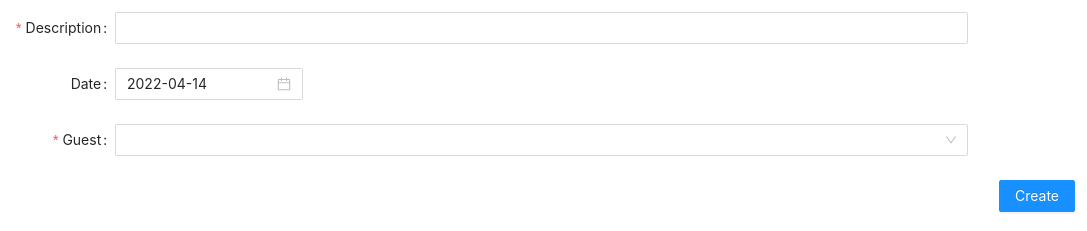
Scenario: <EventForm /> › should print error when description is empty
This screenshot has width=1087, height=231.
Click the button "Create": (1037,196) [999, 180, 1075, 212]
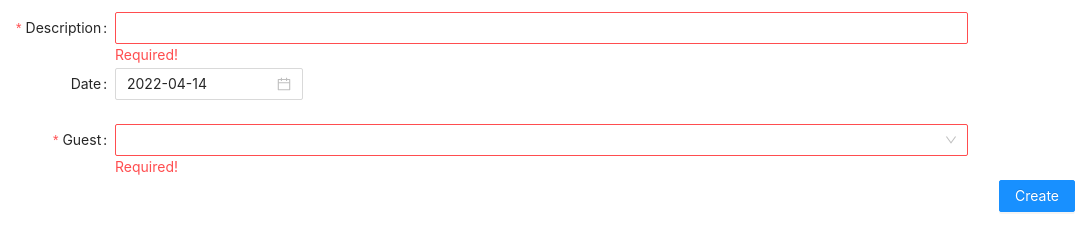
expect the element with test id "description" shows "Required!": met, box [115, 46, 178, 63]
